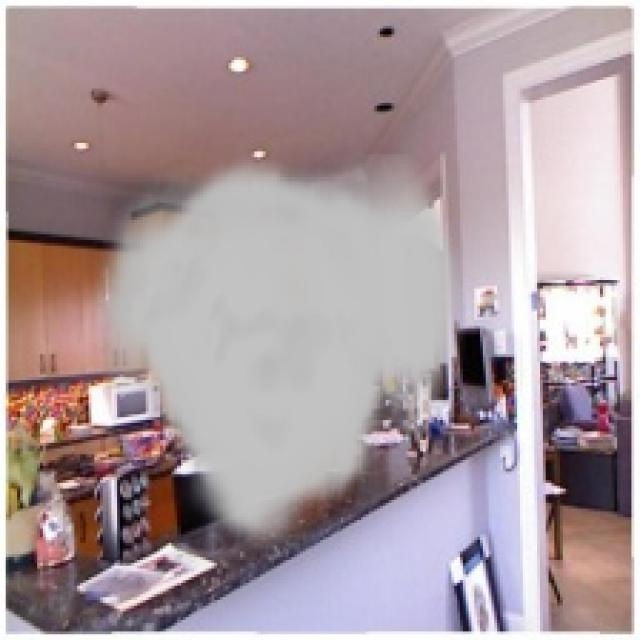Smoke: (86, 154, 466, 549)
